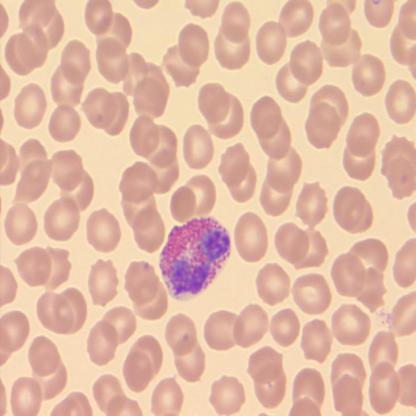Eosinophil: (159, 216, 233, 299)
